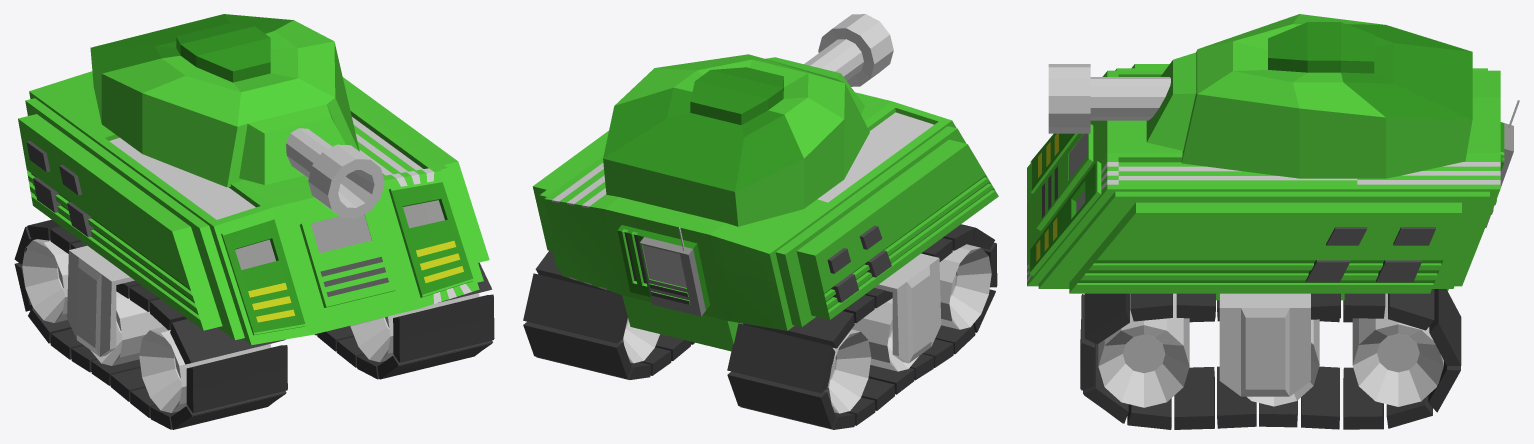
The model's file is tank1(material).fbx.
The picture shows the model from 3 angles, left to right: view 1: azimuth 30°, elevation 25°; view 2: azimuth 150°, elevation 25°; view 3: azimuth 270°, elevation 25°; orthographic projection. The views are drawn at different scales.
Parts seen in each view (by area): view 1: Cube.002, Ndase, Cube.000, Cylinder.001, Cube.001, Cylinder; view 2: Cube.002, Ndase, Cube.000, Cylinder.001, Cube.001, Cylinder; view 3: Cube.002, Ndase, Cylinder, Cube.001.
Boxes of the visible parts, x1,y1,x2,y2 form: Cube.002: (18, 71, 489, 345); Ndase: (90, 14, 384, 218); Cube.000: (14, 219, 287, 429); Cylinder.001: (22, 239, 270, 412); Cube.001: (314, 262, 494, 379); Cylinder: (350, 293, 479, 362); Cube.002: (532, 92, 998, 351); Ndase: (603, 14, 893, 226); Cube.000: (727, 224, 997, 429); Cylinder.001: (824, 244, 991, 413); Cube.001: (523, 250, 694, 379); Cylinder: (619, 318, 659, 363); Cube.002: (1027, 64, 1519, 300); Ndase: (1048, 14, 1472, 178); Cylinder: (1098, 293, 1443, 407); Cube.001: (1080, 289, 1461, 429).
Size of the model in its own units: 897 by 746 by 1080.
